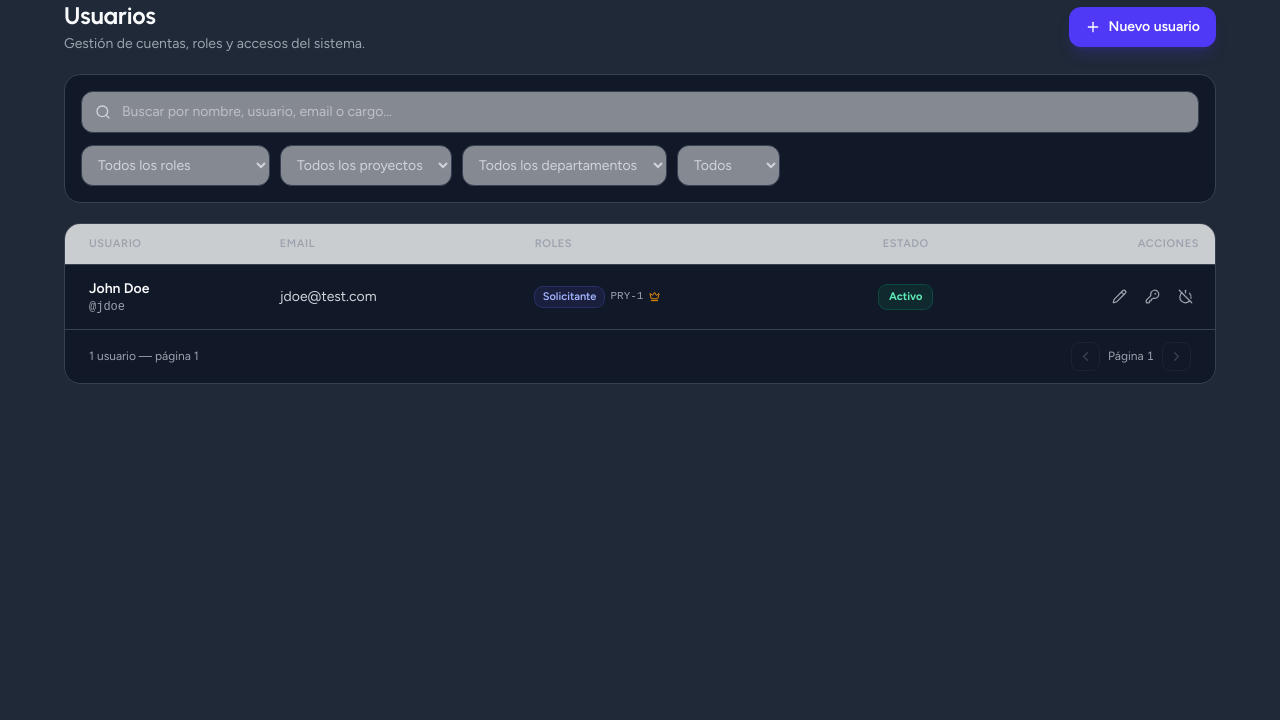
UsersPage › restablecer contraseña abre confirmación y luego muestra el modal con la contraseña temporal
Check: the text "John Doe" is shown, box [89, 279, 149, 299]
Click the button named "restablecer contraseña de john doe": (1152, 297) [1139, 283, 1166, 310]
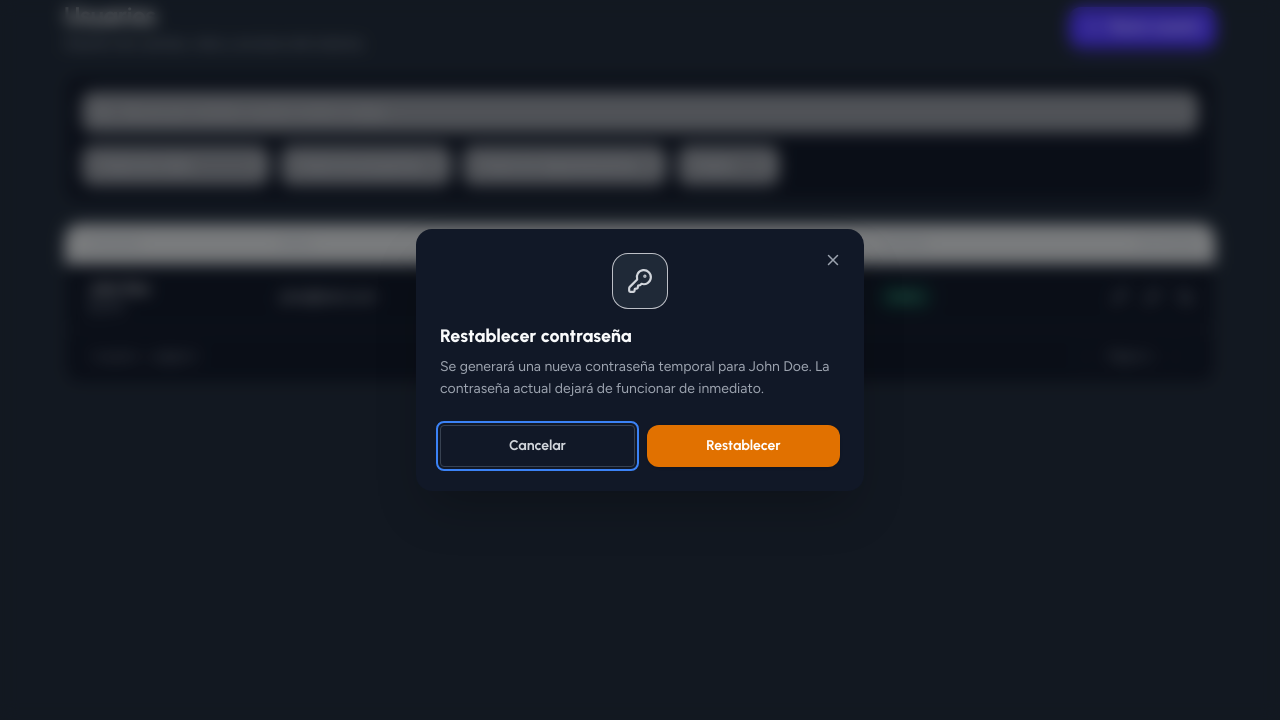
Check: the dialog is shown
Check: the text "Se generará una nueva contraseña temporal" is shown, box [440, 358, 829, 397]
Click the button "Restablecer": (744, 446) [647, 425, 840, 467]
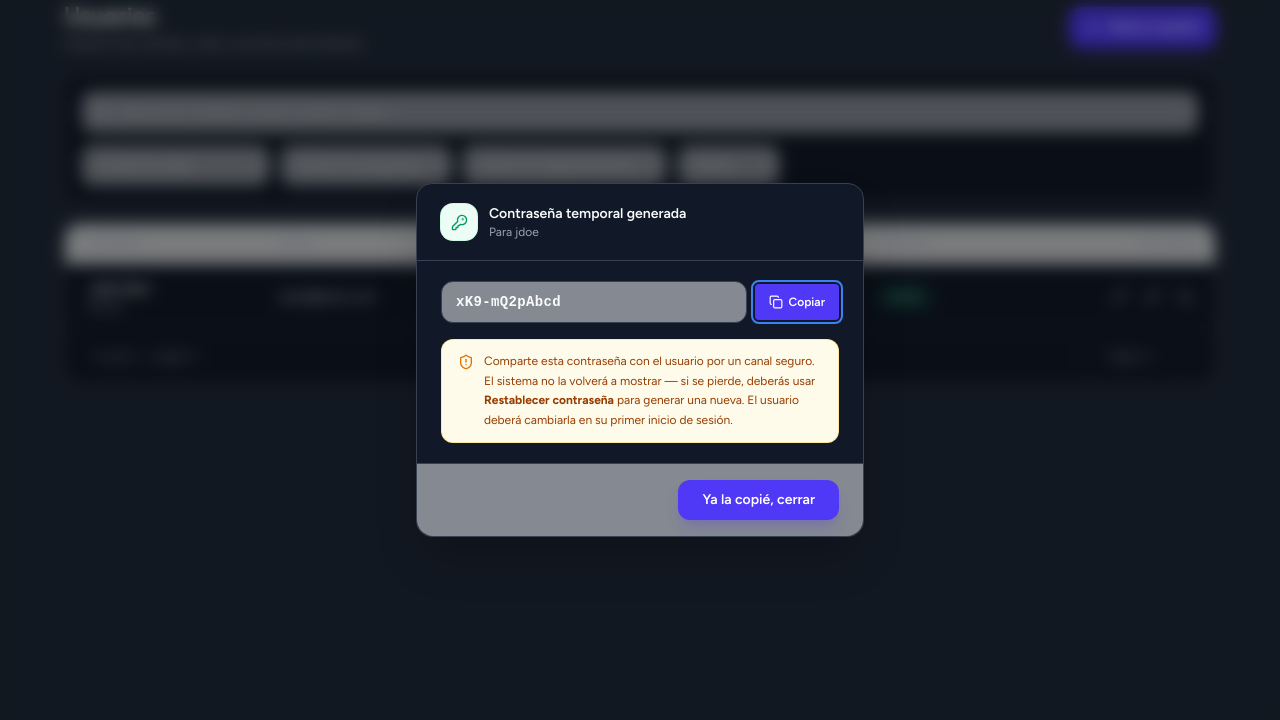
Check: the text "xK9-mQ2pAbcd" is shown, box [441, 281, 746, 323]
